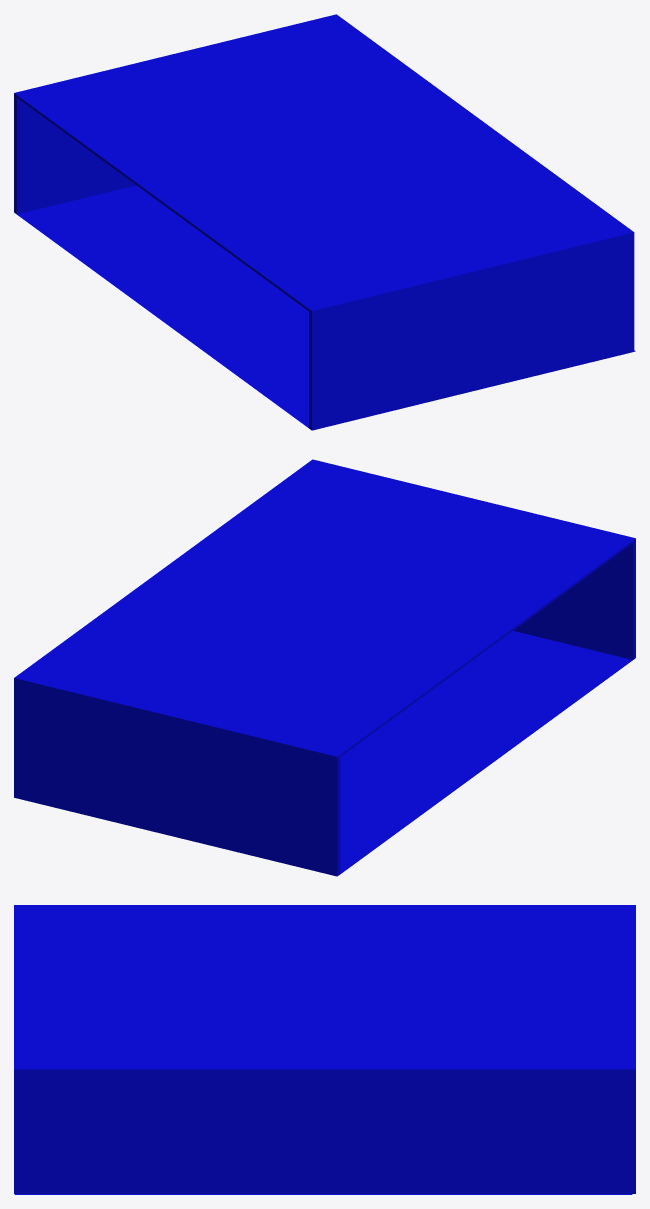
Rendered from cabin7.gltf.
The picture shows the model from 3 angles, top to bottom: view 1: azimuth 30°, elevation 25°; view 2: azimuth 150°, elevation 25°; view 3: azimuth 270°, elevation 25°; orthographic projection. The views are drawn at different scales.
Parts seen in each view (by area): view 1: Cube, Plane; view 2: Cube, Plane; view 3: Cube, Plane.
Boxes of the visible parts, <box> form: Cube: <box>14,14,634,430</box>; Plane: <box>17,185,635,430</box>; Cube: <box>14,459,635,876</box>; Plane: <box>340,631,632,873</box>; Cube: <box>14,905,635,1193</box>; Plane: <box>14,1194,632,1194</box>.
Bounding box in the file's own units: 6.54 × 2.3 × 10.4.
